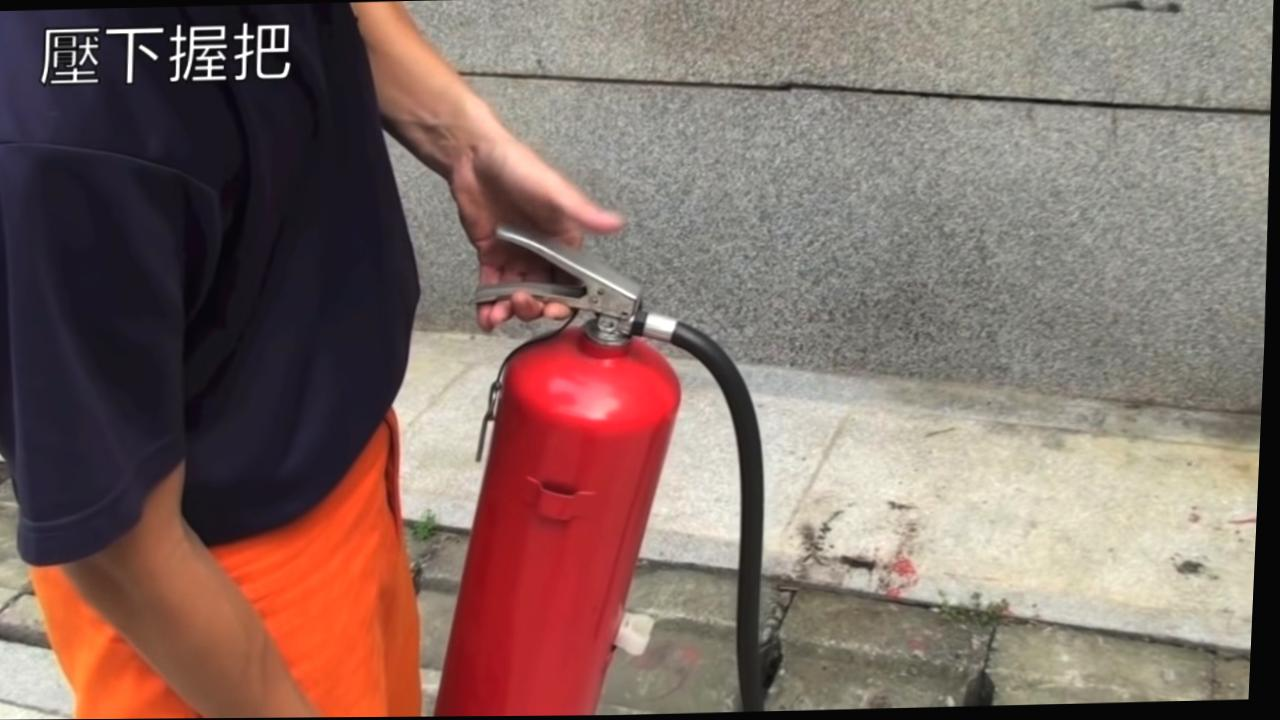FireExtinguisher: (429, 284, 746, 717)
not: (7, 385, 437, 720)
